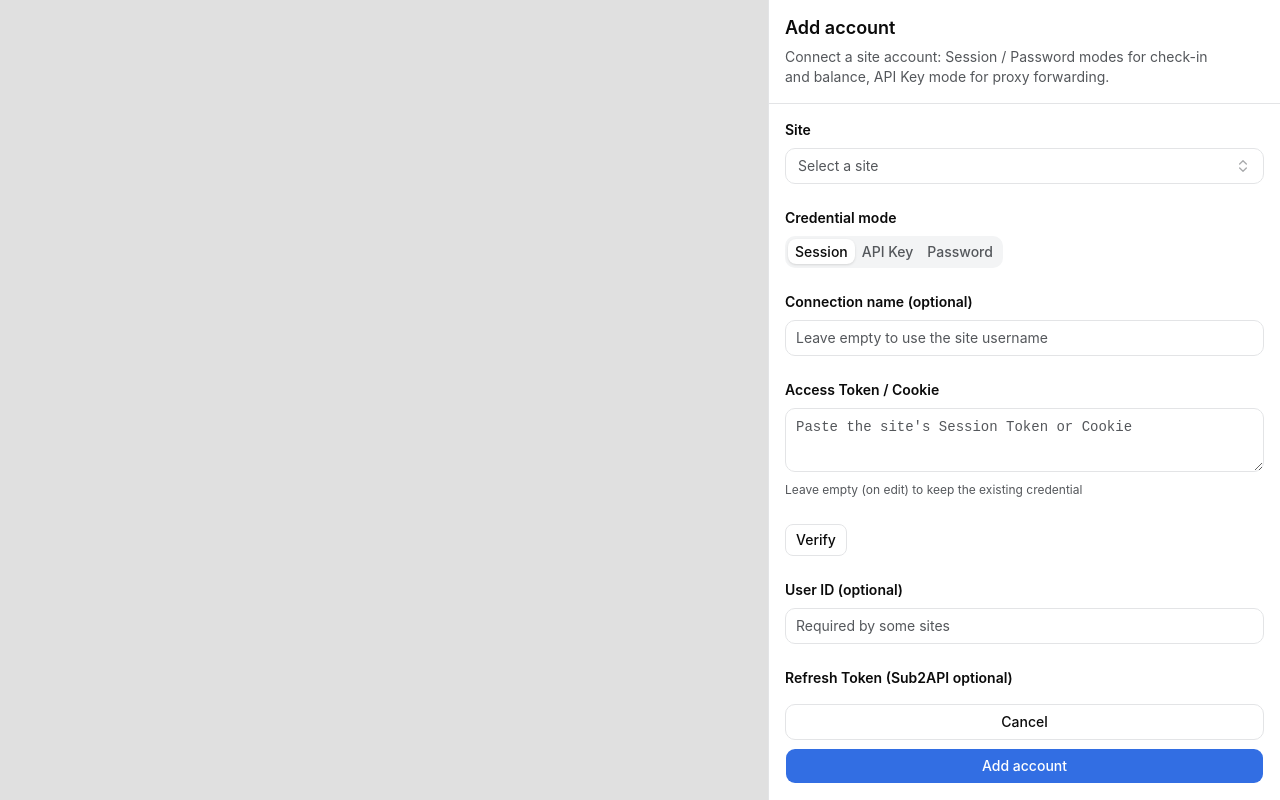
Test case: AccountFormDialog searchable site selector › filters 30+ local sites by URL
The width and height of the screenshot is (1280, 800).
Click the dropdown labelled "site". click: (838, 165)
box: [785,148,1264,184]
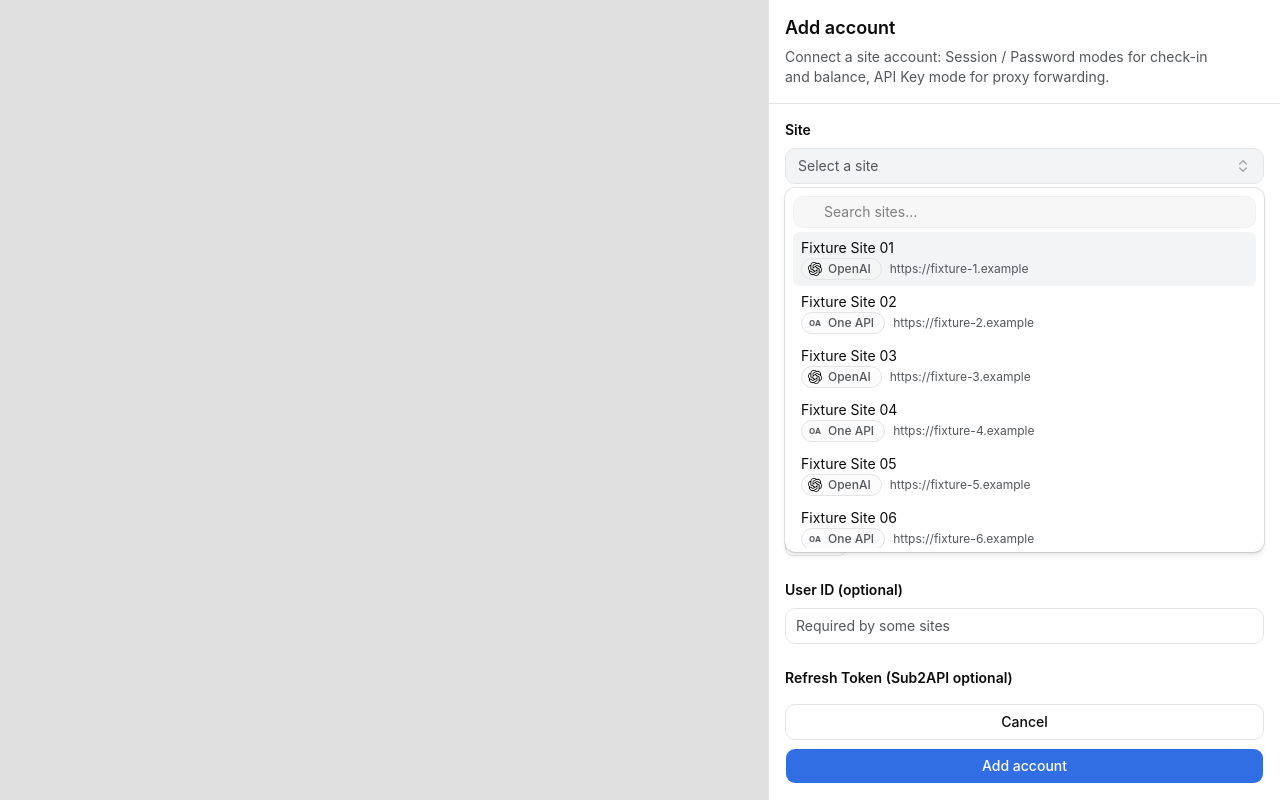
Type "lunar.example" into the dropdown with placeholder "Search sites…". click: (1036, 212)
box: [818,202,1255,222]
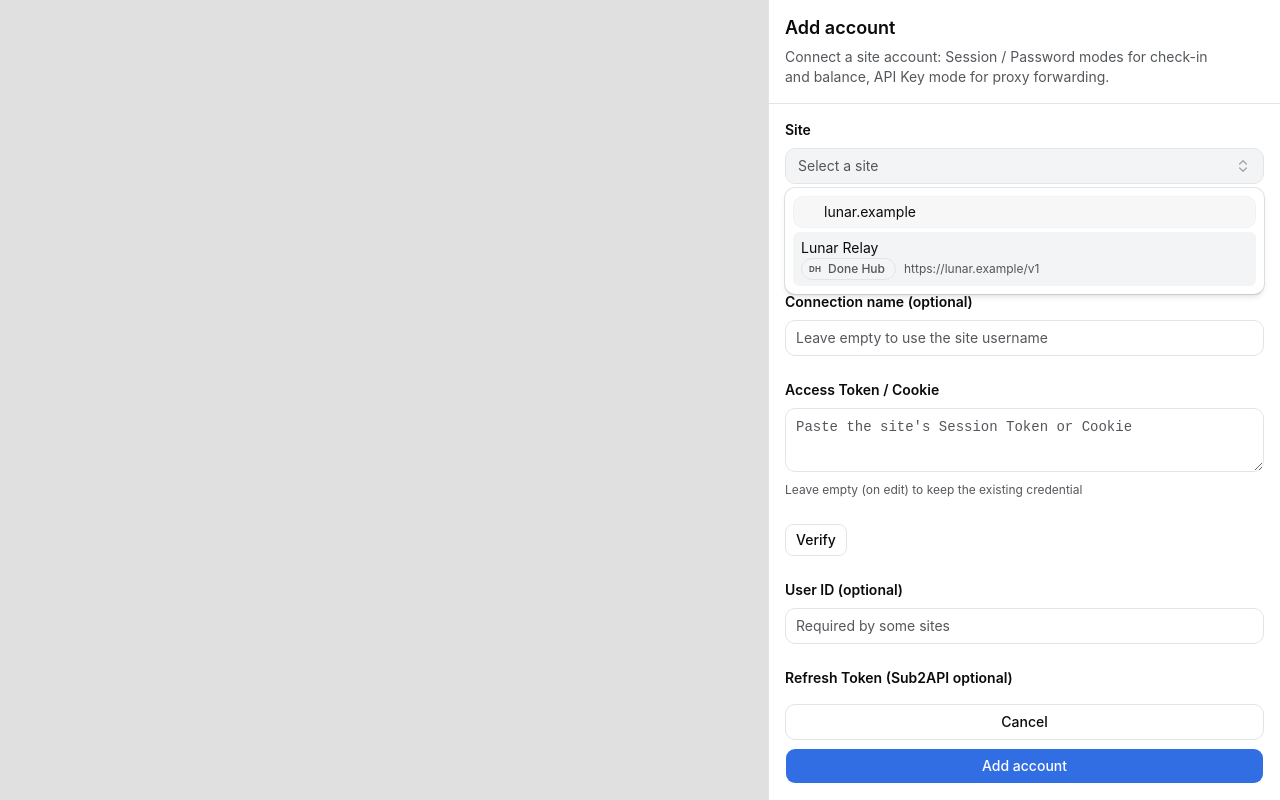
Now the option "Lunar Relay DH Done Hub https://lunar.example/v1" is shown, box [793,232,1256,286]
Now the option "Fixture Site 01" is gone
